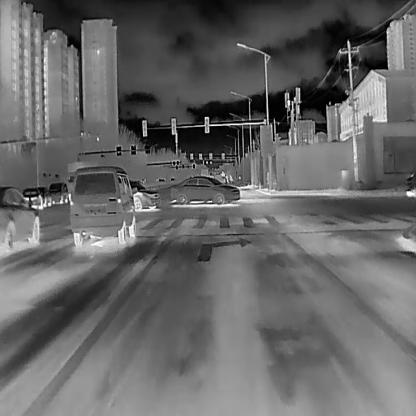car: (69, 165, 135, 246), (0, 185, 40, 253), (168, 175, 240, 204), (128, 179, 161, 210), (21, 186, 45, 209), (48, 182, 68, 204), (405, 166, 415, 195)
crosswalk: (134, 214, 416, 234)
light: (200, 114, 213, 135), (140, 118, 151, 140), (170, 118, 180, 137)
